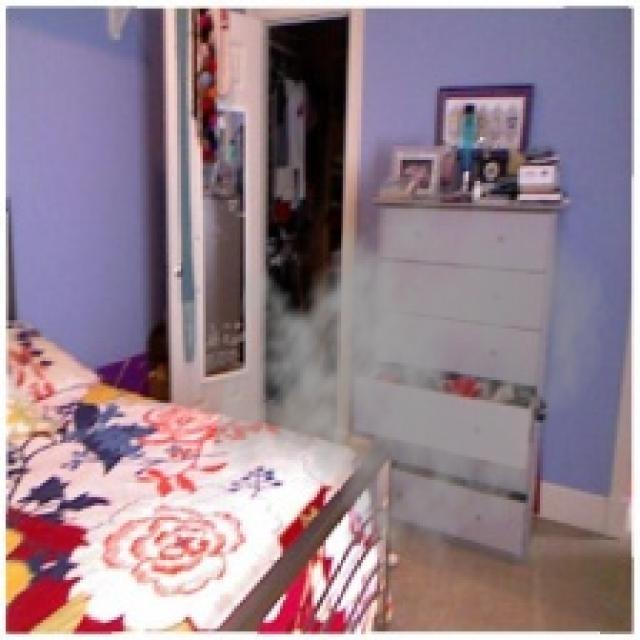Smoke: (208, 159, 612, 572)
